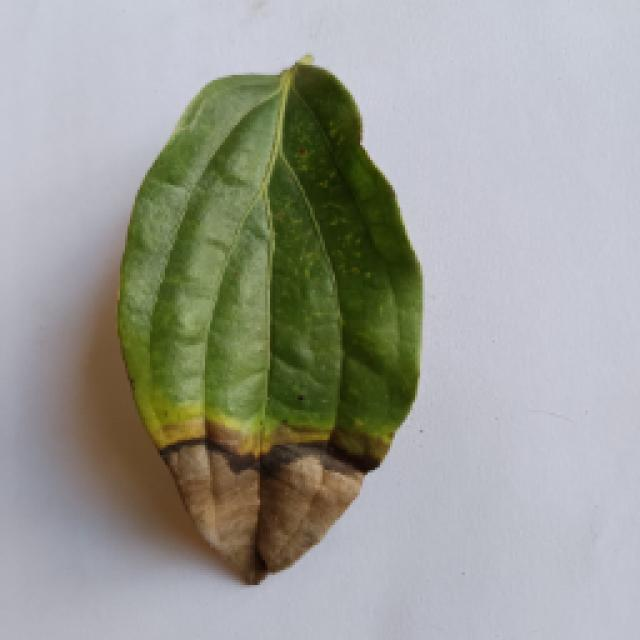footrot: (115, 57, 425, 585)
